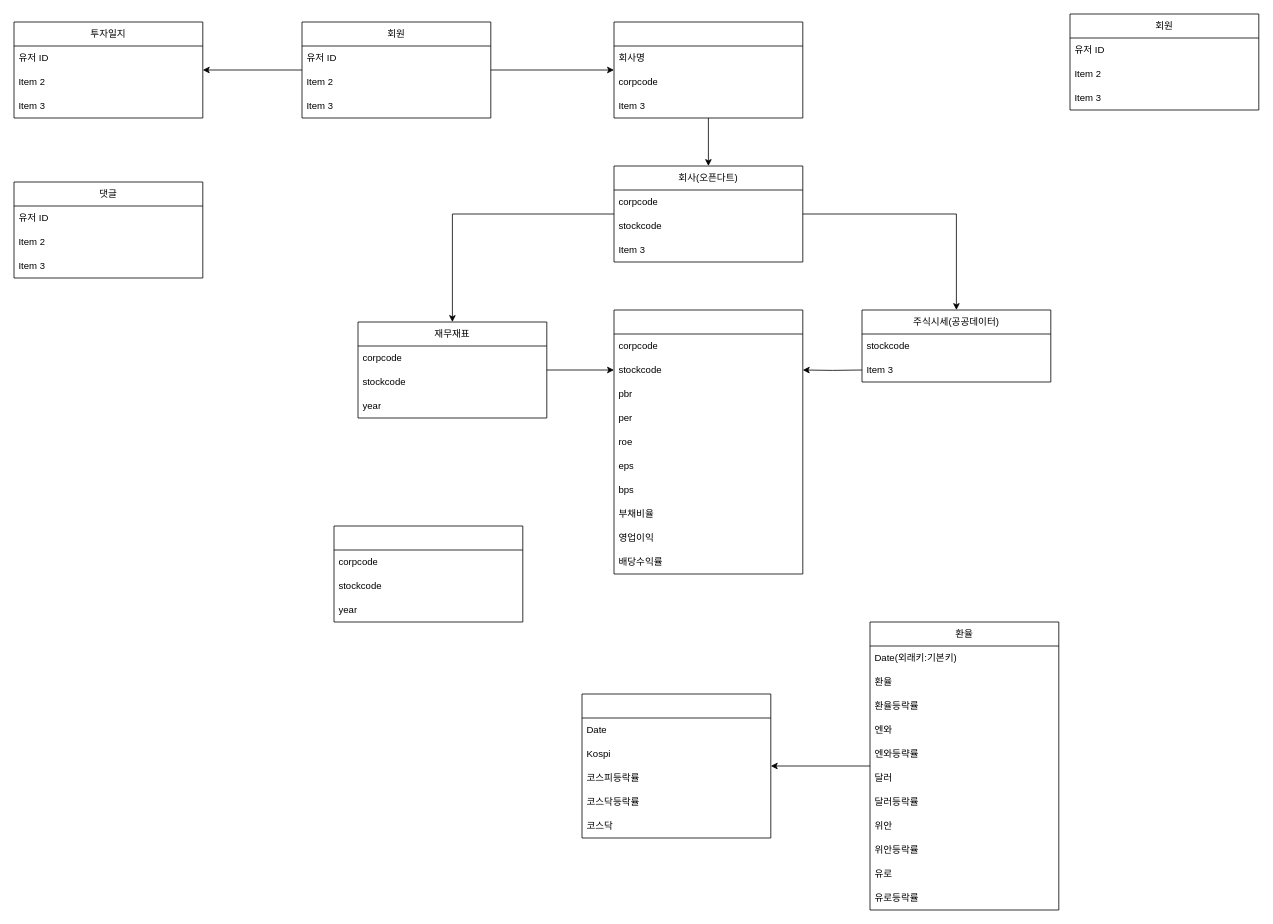
Image size: 1273x924. Some labels were removed from this diagram. Here are the shapes that lost their labels. From the top down, the box of each, then its label:
(613, 21, 803, 118): 즐겨찾기
(613, 309, 803, 574): 지표계산(연산저장)
(333, 525, 523, 622): top100
(581, 693, 771, 838): 전체지표
